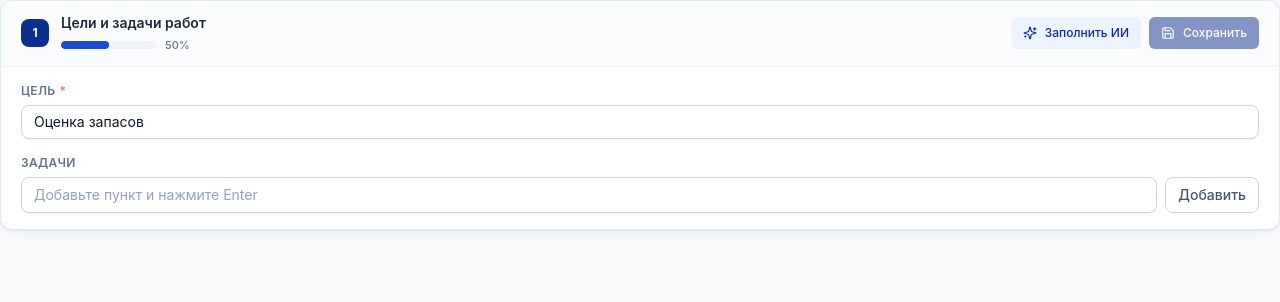
TzBlockCard (filled_by) › правка поля показывает баннер, сохранение шлёт PATCH с filled_by=manual
The image size is (1280, 302).
Replace the text in the text box labelled "Цель*" with "Новая цель" at (640, 122), box [21, 104, 1259, 138]
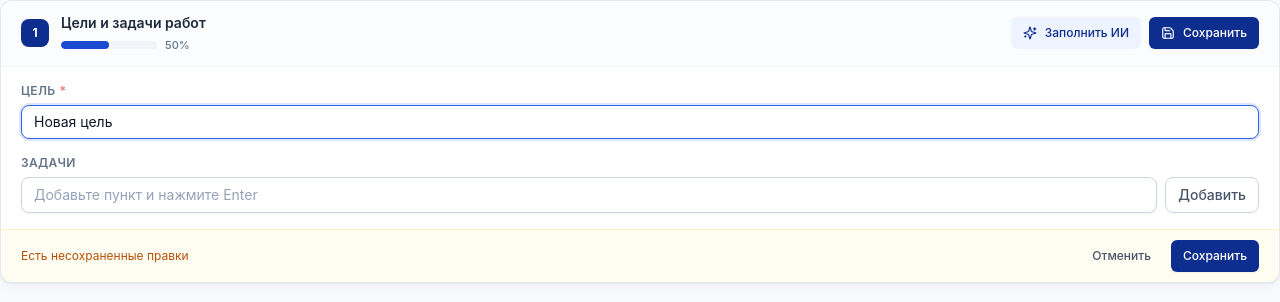
Expected: the text "Есть несохраненные правки" is shown, [21, 248, 188, 264]
Click the button "Сохранить" in the row of "Цели и задачи работ" at (1204, 33), box [1149, 17, 1259, 49]
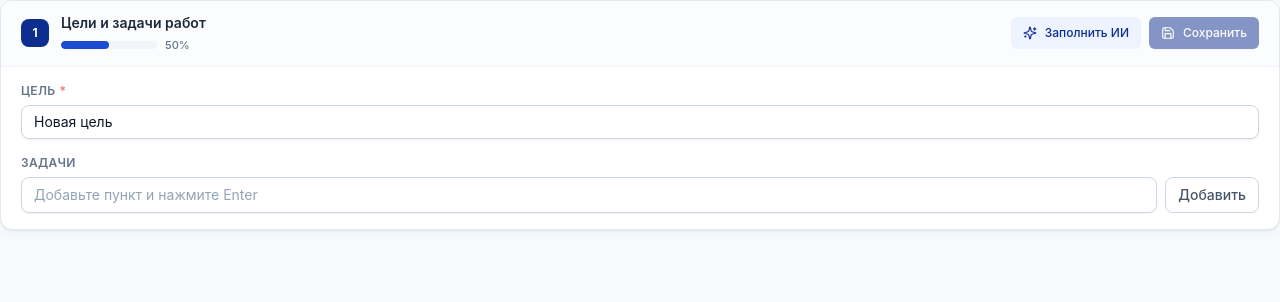
Expected: the text "Есть несохраненные правки" is gone
